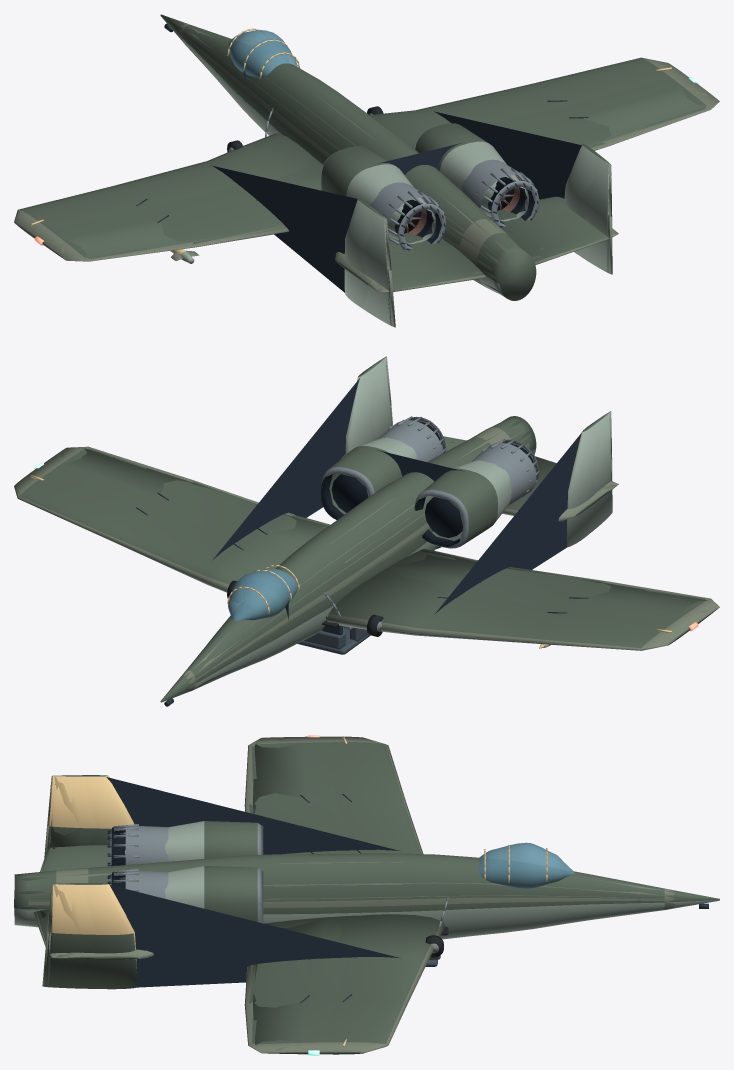
3 views of the same model, one above another, from view 1: azimuth 30°, elevation 25°; view 2: azimuth 150°, elevation 25°; view 3: azimuth 270°, elevation 25° (orthographic).
Visible parts, largest first — view 1: Airframe shell mesh, Airframe shell.001 mesh, Airframe shell.002 mesh, Port wing, Starboard wing, Aft nacelles, Central fuselage, Canopy glass, Canopy glass.001, Hinged Aileron, Forward fuselage, Hinged Aileron.001; view 2: Airframe shell mesh, Airframe shell.001 mesh, Airframe shell.002 mesh, Port wing, Starboard wing, Central fuselage, Aft nacelles, Canopy glass, Forward fuselage, Cockpit shell mesh, Canopy glass.001; view 3: Airframe shell mesh, Starboard wing, Airframe shell.001 mesh, Airframe shell.002 mesh, Port wing, Aft nacelles, Central fuselage, Canopy glass, Forward fuselage, Canopy glass.001, Hinged Aileron.001.
Part boxes in pixels (x1,y1,x2,y2): Airframe shell mesh: (14, 23, 698, 327); Airframe shell.001 mesh: (14, 23, 718, 326); Airframe shell.002 mesh: (19, 14, 716, 325); Port wing: (14, 165, 389, 321); Starboard wing: (434, 79, 719, 233); Aft nacelles: (353, 140, 611, 326); Central fuselage: (243, 38, 485, 194); Canopy glass: (228, 30, 297, 77); Canopy glass.001: (228, 30, 297, 77); Hinged Aileron: (66, 225, 288, 261); Forward fuselage: (181, 29, 283, 116); Hinged Aileron.001: (591, 100, 719, 150); Airframe shell mesh: (14, 369, 698, 706); Airframe shell.001 mesh: (39, 357, 719, 702); Airframe shell.002 mesh: (46, 358, 717, 701); Port wing: (434, 414, 717, 650); Starboard wing: (41, 357, 387, 560); Central fuselage: (245, 447, 495, 649); Aft nacelles: (339, 362, 612, 549); Canopy glass: (228, 568, 297, 620); Forward fuselage: (186, 571, 288, 686); Cockpit shell mesh: (297, 592, 370, 654); Canopy glass.001: (229, 569, 297, 618); Airframe shell mesh: (14, 735, 719, 1055); Starboard wing: (48, 884, 400, 1054); Airframe shell.001 mesh: (14, 737, 674, 1054); Airframe shell.002 mesh: (15, 737, 719, 1053); Port wing: (51, 736, 400, 854); Aft nacelles: (15, 776, 208, 987); Central fuselage: (208, 821, 512, 933); Canopy glass: (478, 842, 573, 888); Forward fuselage: (513, 843, 671, 930); Canopy glass.001: (479, 843, 563, 888); Hinged Aileron.001: (244, 964, 285, 1053).
Bounding box in the file's own units: 17.66 × 3.08 × 16.6.
